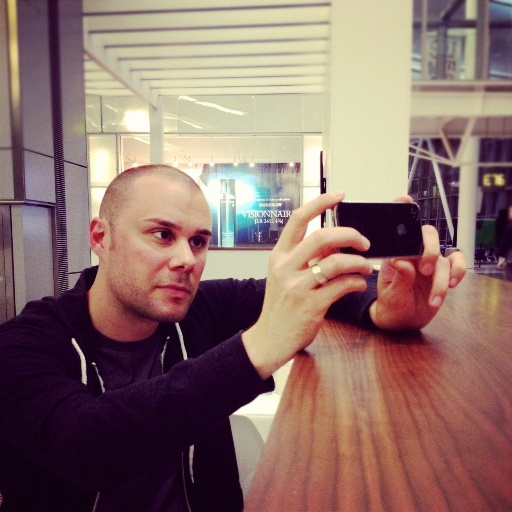hand: (251, 203, 374, 385), (366, 194, 467, 331)
